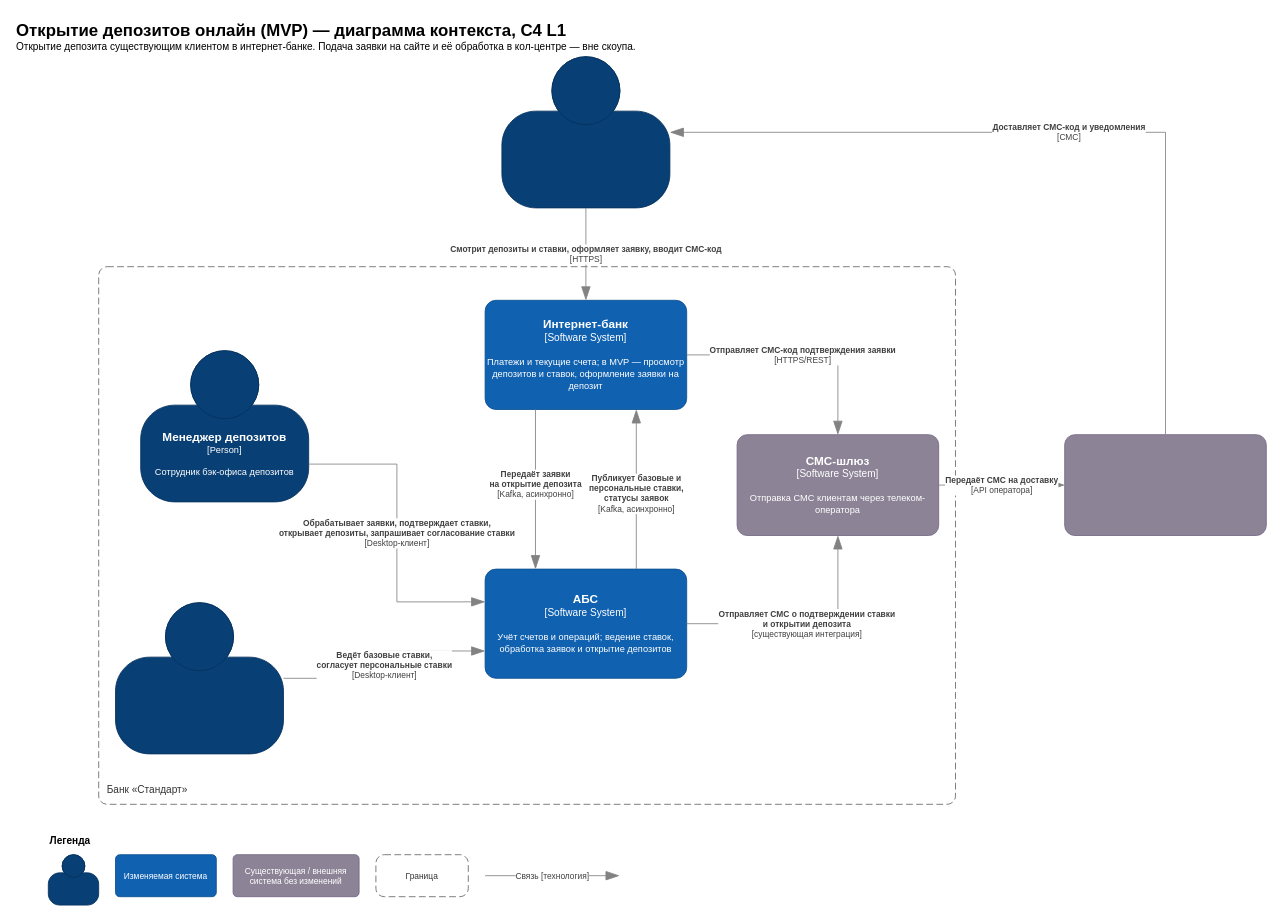
Image size: 1281x920. Some labels were removed from this diagram. The box of each missing label's shape, as (x1, y1, x2, y2) in pixels:
Клиент [Person] Существующий клиент банка, пользователь интернет-банка: (501, 56, 670, 208)
Менеджер кредитов [Person] Сотрудник бэк-офиса кредитов: (115, 602, 284, 754)
Телеком-оператор [Software System] Внешний оператор, доставляет СМС клиентам: (1064, 434, 1266, 536)
Человек: (47, 854, 99, 905)
